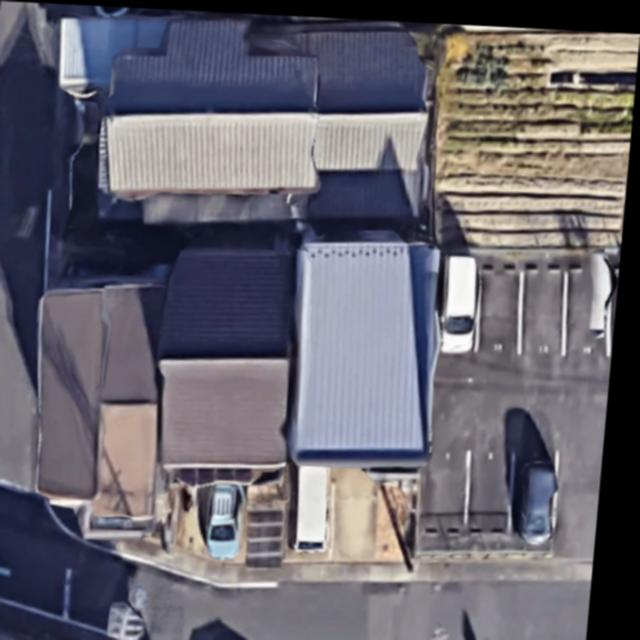Batiment: (61, 14, 428, 209), (163, 245, 298, 480), (296, 237, 432, 461), (44, 282, 171, 515)
